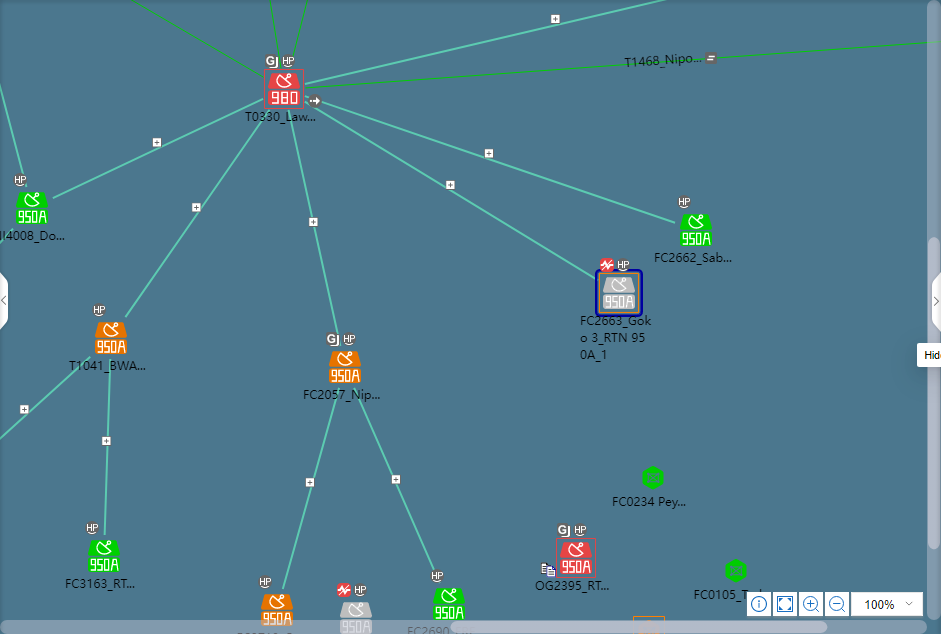Link_Blue: (313, 102, 590, 273), (318, 96, 678, 221), (126, 108, 272, 310), (309, 2, 635, 80), (50, 96, 259, 198), (356, 398, 434, 568), (285, 108, 343, 336), (279, 391, 338, 588), (3, 355, 87, 433), (3, 108, 31, 186), (103, 355, 110, 502), (3, 226, 12, 235)
Link_Green: (321, 38, 937, 86), (132, 0, 260, 74), (268, 2, 284, 71), (291, 2, 304, 48)
RTN_Gray: (603, 273, 635, 313), (338, 602, 371, 634)
RTN_Green: (85, 538, 119, 577), (679, 214, 713, 248), (432, 590, 466, 624), (15, 191, 49, 223)
RTN_Orange: (97, 320, 131, 354), (262, 596, 296, 630), (326, 349, 359, 383)
RTN_Red: (556, 543, 595, 577), (268, 73, 300, 107)
